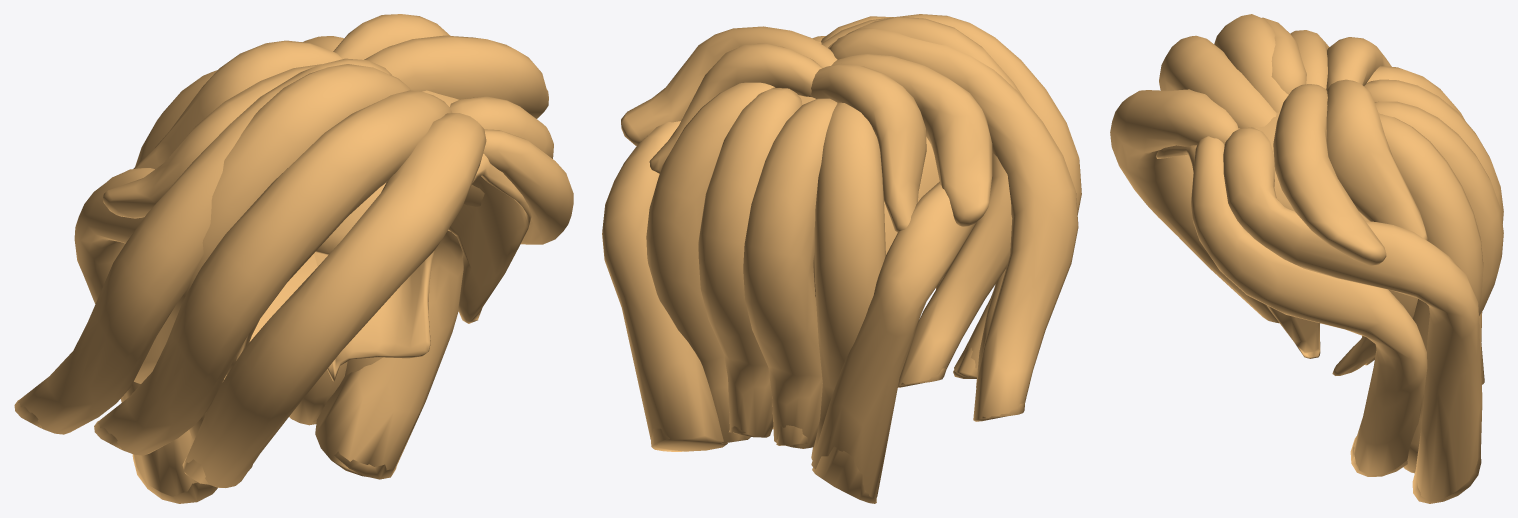
Rendered from hair-009-5adeae82.glb.
The picture shows the model from 3 angles, left to right: view 1: azimuth 30°, elevation 25°; view 2: azimuth 150°, elevation 25°; view 3: azimuth 270°, elevation 25°; orthographic projection. The views are drawn at different scales.
Parts seen in each view (by area): view 1: Geo_Female_White_Hair.011; view 2: Geo_Female_White_Hair.011; view 3: Geo_Female_White_Hair.011.
Part boxes in pixels (x1,y1,x2,y2): Geo_Female_White_Hair.011: (14, 14, 573, 503); Geo_Female_White_Hair.011: (602, 14, 1081, 503); Geo_Female_White_Hair.011: (1110, 14, 1503, 503).
Bounding box in the file's own units: 2.65 × 2.48 × 2.18.
